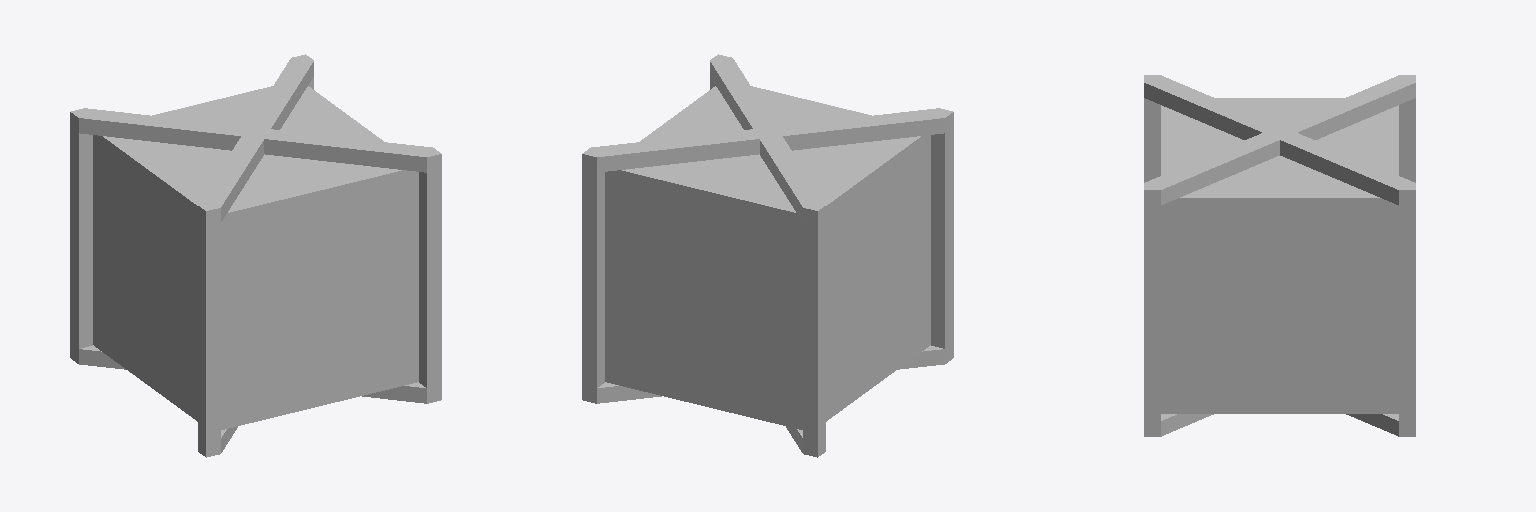
The model's file is quantumBinding.obj.
3 views of the same model, side by side, from view 1: azimuth 30°, elevation 25°; view 2: azimuth 150°, elevation 25°; view 3: azimuth 270°, elevation 25° (orthographic).
Parts seen in each view (by area): view 1: Cube.002; view 2: Cube.002; view 3: Cube.002.
Boxes of the visible parts, box(x1,y1,x2,y2) form: Cube.002: box(70, 54, 441, 457); Cube.002: box(582, 54, 953, 457); Cube.002: box(1144, 75, 1415, 436).
Bounding box in the file's own units: 1 × 1 × 1.